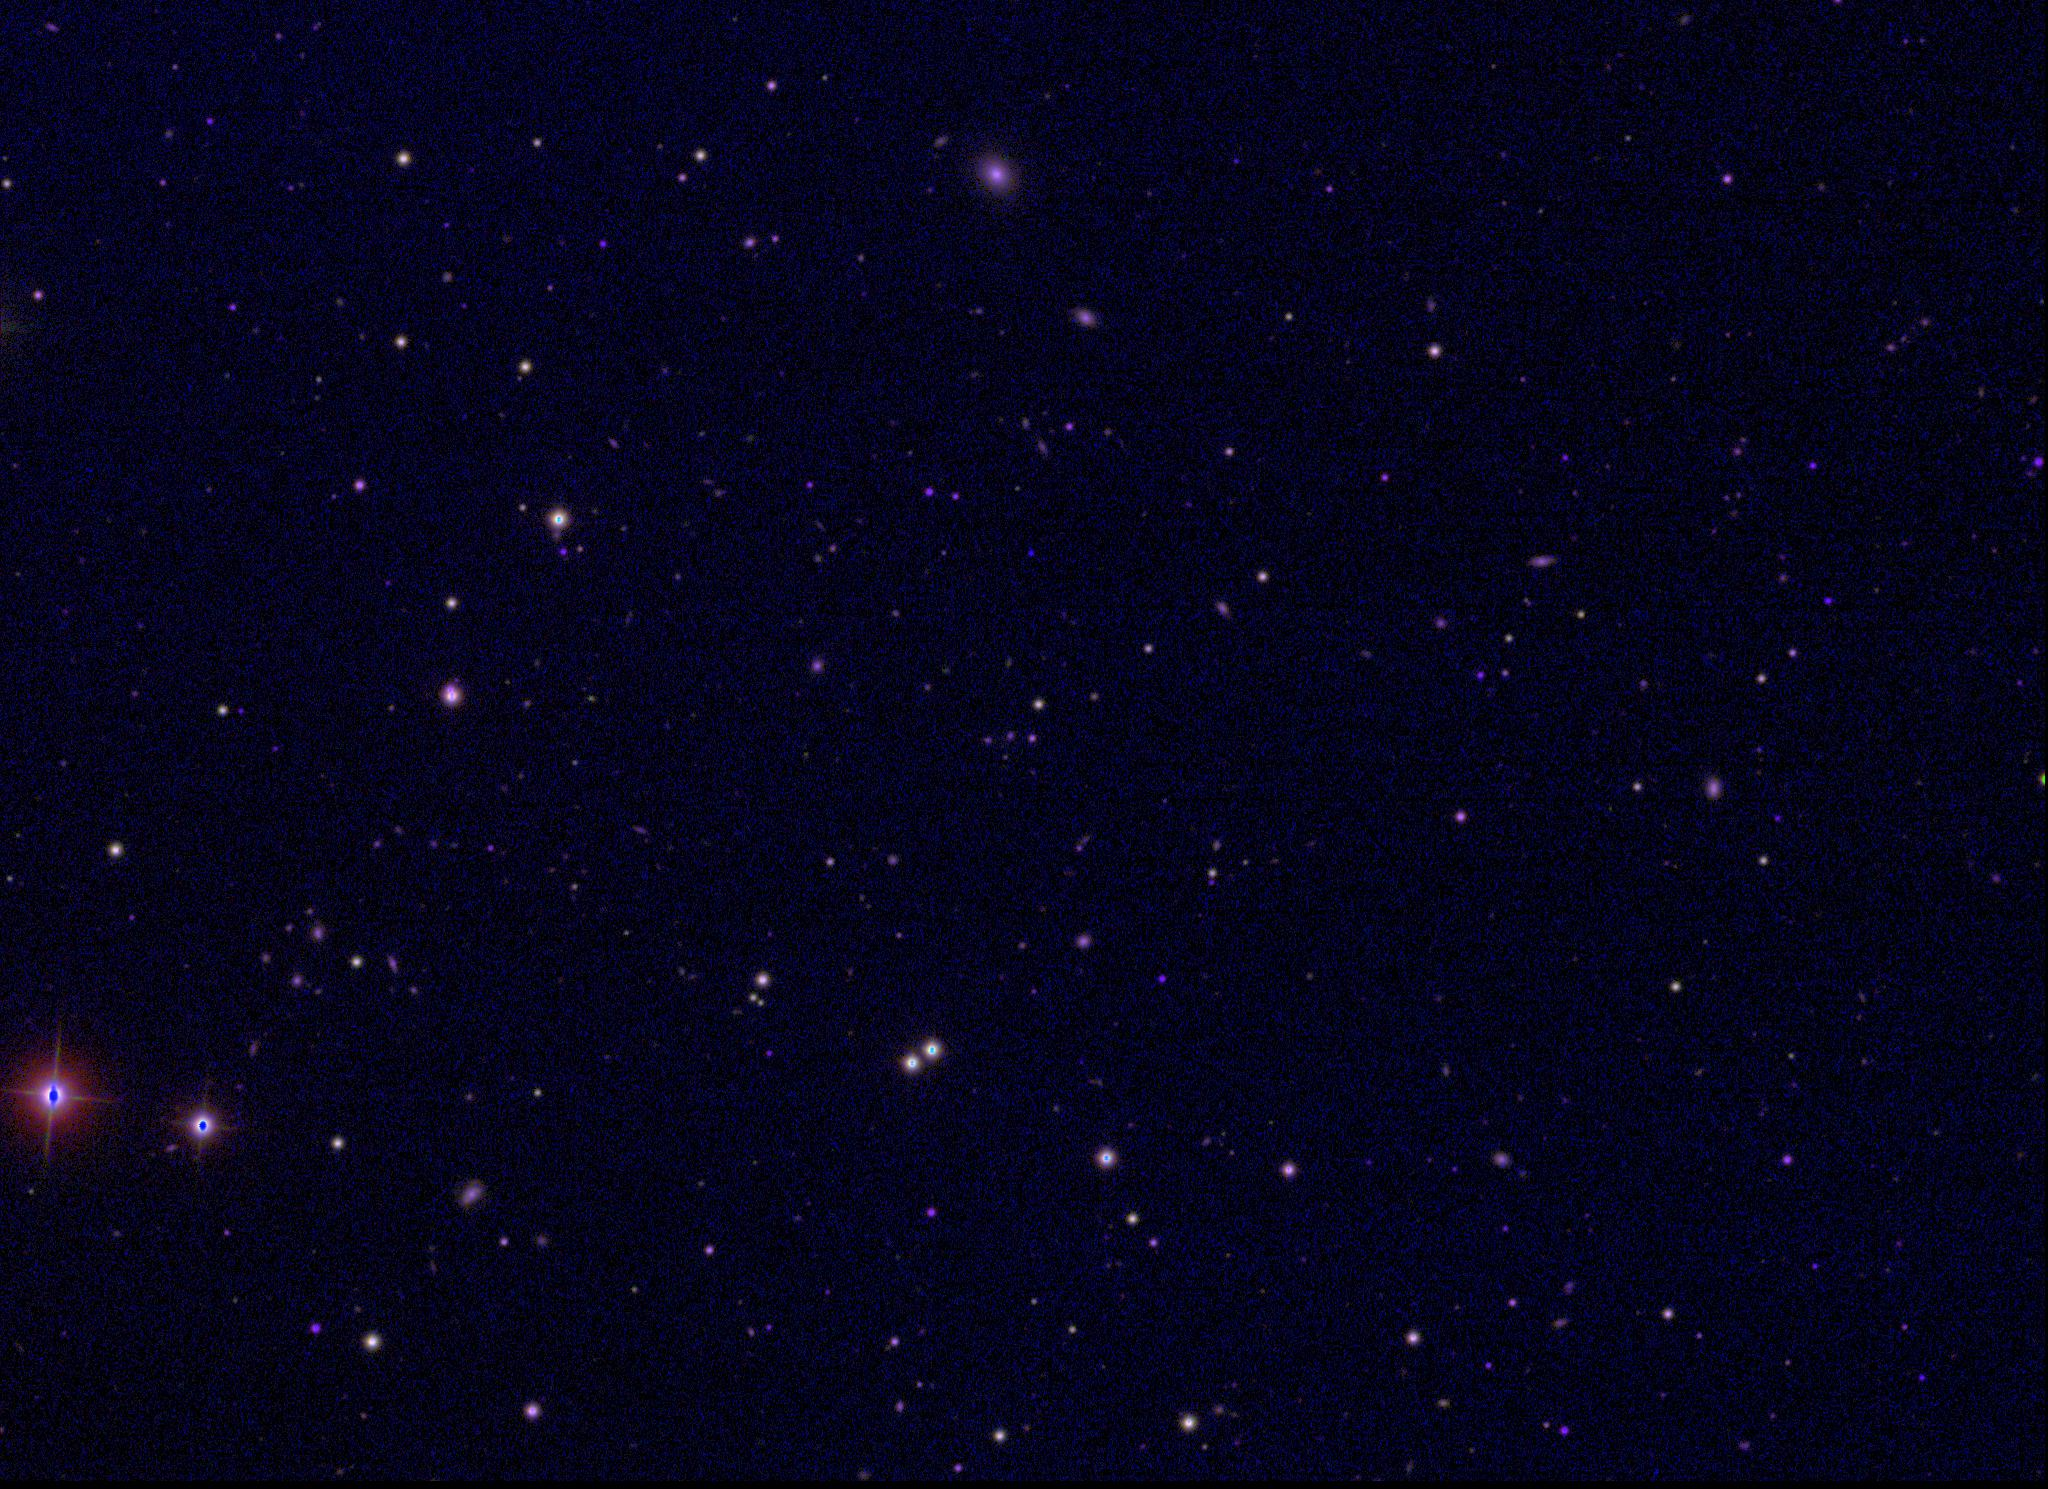L: (1022, 546, 1037, 558)
